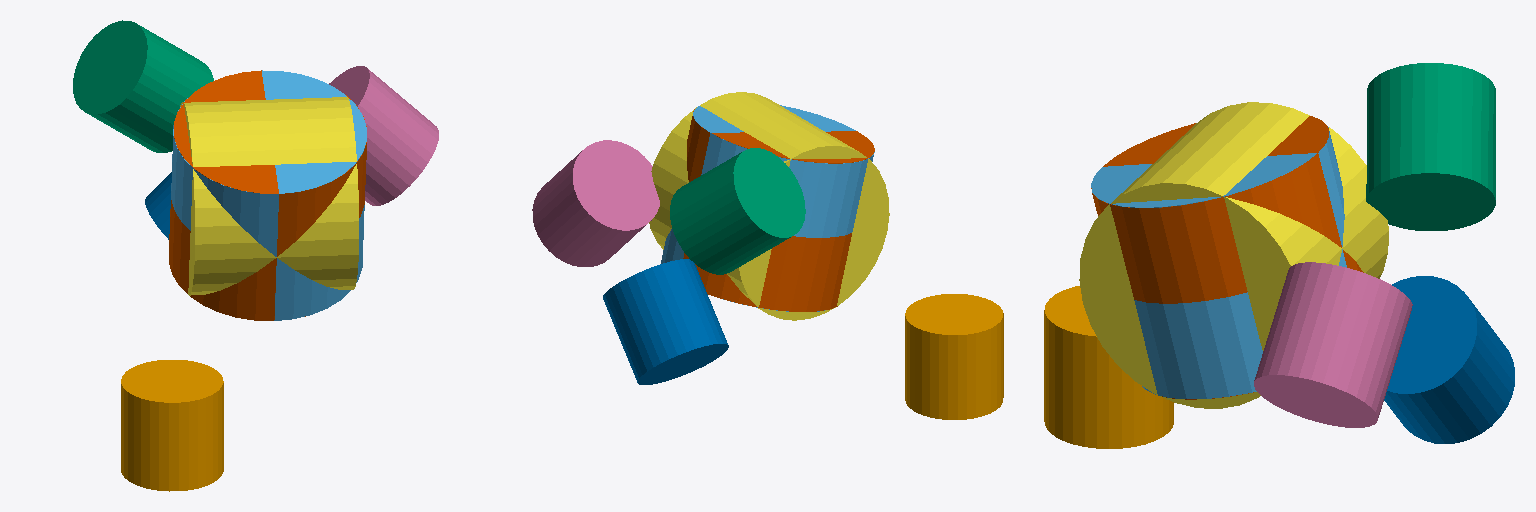
URDF robot description (pepe):
<?xml version="1.0"?><robot name="pepe">
	<link name="0">
		<visual>
			<geometry>
				<cylinder length="0.5611418562821697" radius="0.2946126100920926"/>
			</geometry>
		</visual>
		<collision>
			<geometry>
				<cylinder length="0.5611418562821697" radius="0.2946126100920926"/>
			</geometry>
		</collision>
		<inertial>
			<mass value="0.15301189739869822"/>
			<inertia ixx="0.03" iyy="0.03" izz="0.03" ixy="0" ixz="0" iyx="0"/>
		</inertial>
	</link>
	<link name="11">
		<visual>
			<geometry>
				<cylinder length="0.9455728035005156" radius="0.5578301136942871"/>
			</geometry>
		</visual>
		<collision>
			<geometry>
				<cylinder length="0.9455728035005156" radius="0.5578301136942871"/>
			</geometry>
		</collision>
		<inertial>
			<mass value="0.9243762017948284"/>
			<inertia ixx="0.03" iyy="0.03" izz="0.03" ixy="0" ixz="0" iyx="0"/>
		</inertial>
	</link>
	<link name="22">
		<visual>
			<geometry>
				<cylinder length="0.5611418562821697" radius="0.2946126100920926"/>
			</geometry>
		</visual>
		<collision>
			<geometry>
				<cylinder length="0.5611418562821697" radius="0.2946126100920926"/>
			</geometry>
		</collision>
		<inertial>
			<mass value="0.15301189739869822"/>
			<inertia ixx="0.03" iyy="0.03" izz="0.03" ixy="0" ixz="0" iyx="0"/>
		</inertial>
	</link>
	<link name="13">
		<visual>
			<geometry>
				<cylinder length="0.9455728035005156" radius="0.5578301136942871"/>
			</geometry>
		</visual>
		<collision>
			<geometry>
				<cylinder length="0.9455728035005156" radius="0.5578301136942871"/>
			</geometry>
		</collision>
		<inertial>
			<mass value="0.9243762017948284"/>
			<inertia ixx="0.03" iyy="0.03" izz="0.03" ixy="0" ixz="0" iyx="0"/>
		</inertial>
	</link>
	<link name="24">
		<visual>
			<geometry>
				<cylinder length="0.5611418562821697" radius="0.2946126100920926"/>
			</geometry>
		</visual>
		<collision>
			<geometry>
				<cylinder length="0.5611418562821697" radius="0.2946126100920926"/>
			</geometry>
		</collision>
		<inertial>
			<mass value="0.15301189739869822"/>
			<inertia ixx="0.03" iyy="0.03" izz="0.03" ixy="0" ixz="0" iyx="0"/>
		</inertial>
	</link>
	<link name="15">
		<visual>
			<geometry>
				<cylinder length="0.9455728035005156" radius="0.5578301136942871"/>
			</geometry>
		</visual>
		<collision>
			<geometry>
				<cylinder length="0.9455728035005156" radius="0.5578301136942871"/>
			</geometry>
		</collision>
		<inertial>
			<mass value="0.9243762017948284"/>
			<inertia ixx="0.03" iyy="0.03" izz="0.03" ixy="0" ixz="0" iyx="0"/>
		</inertial>
	</link>
	<link name="26">
		<visual>
			<geometry>
				<cylinder length="0.5611418562821697" radius="0.2946126100920926"/>
			</geometry>
		</visual>
		<collision>
			<geometry>
				<cylinder length="0.5611418562821697" radius="0.2946126100920926"/>
			</geometry>
		</collision>
		<inertial>
			<mass value="0.15301189739869822"/>
			<inertia ixx="0.03" iyy="0.03" izz="0.03" ixy="0" ixz="0" iyx="0"/>
		</inertial>
	</link>
	<joint name="11_to_0" type="revolute">
		<parent link="0"/>
		<child link="11"/>
		<axis xyz="0 1 0"/>
		<limit effort="1" upper="-3.1415" lower="3.1415" velocity="1"/>
		<origin rpy="9.428273766972108 3.395890177047468 4.2820055198187585" xyz="0.9611317272973037 0.5671458963852507 0.9999"/>
	</joint>
	<joint name="22_to_11" type="revolute">
		<parent link="11"/>
		<child link="22"/>
		<axis xyz="0 0 1"/>
		<limit effort="1" upper="-3.1415" lower="3.1415" velocity="1"/>
		<origin rpy="9.243833898421352 0.8111635657596122 1.5394527874181536" xyz="0.7632526944114953 0.6534418227774019 0.21264521352094462"/>
	</joint>
	<joint name="13_to_0" type="revolute">
		<parent link="0"/>
		<child link="13"/>
		<axis xyz="0 1 0"/>
		<limit effort="1" upper="-3.1415" lower="3.1415" velocity="1"/>
		<origin rpy="14.142410650458162 3.395890177047468 4.2820055198187585" xyz="0.9611317272973037 0.5671458963852507 0.9999"/>
	</joint>
	<joint name="24_to_13" type="revolute">
		<parent link="13"/>
		<child link="24"/>
		<axis xyz="0 0 1"/>
		<limit effort="1" upper="-3.1415" lower="3.1415" velocity="1"/>
		<origin rpy="9.243833898421352 0.8111635657596122 1.5394527874181536" xyz="0.7632526944114953 0.6534418227774019 0.21264521352094462"/>
	</joint>
	<joint name="15_to_0" type="revolute">
		<parent link="0"/>
		<child link="15"/>
		<axis xyz="0 1 0"/>
		<limit effort="1" upper="-3.1415" lower="3.1415" velocity="1"/>
		<origin rpy="18.856547533944216 3.395890177047468 4.2820055198187585" xyz="0.9611317272973037 0.5671458963852507 0.9999"/>
	</joint>
	<joint name="26_to_15" type="revolute">
		<parent link="15"/>
		<child link="26"/>
		<axis xyz="0 0 1"/>
		<limit effort="1" upper="-3.1415" lower="3.1415" velocity="1"/>
		<origin rpy="9.243833898421352 0.8111635657596122 1.5394527874181536" xyz="0.7632526944114953 0.6534418227774019 0.21264521352094462"/>
	</joint>
</robot>

--- Render facts (derived) ---
Views: 3 orthographic renders of the robot side by side, from view 1: azimuth 30°, elevation 25°; view 2: azimuth 150°, elevation 25°; view 3: azimuth 270°, elevation 25°.
Model pepe with 7 links and 6 joints (6 revolute), rooted at 0, posed every joint at zero.
Links seen in each view (by area): view 1: 13, 0, 22, 15, 11, 26, 24; view 2: 13, 22, 0, 26, 24, 15, 11; view 3: 13, 22, 26, 15, 24, 11, 0.
Link boxes in pixels (bbox=[...]): 13: bbox=[180, 97, 358, 295]; 0: bbox=[121, 360, 223, 491]; 22: bbox=[73, 20, 213, 152]; 15: bbox=[169, 70, 366, 320]; 11: bbox=[171, 70, 366, 320]; 26: bbox=[329, 66, 438, 205]; 24: bbox=[145, 172, 171, 239]; 13: bbox=[649, 92, 889, 320]; 22: bbox=[670, 148, 805, 274]; 0: bbox=[905, 294, 1003, 419]; 26: bbox=[532, 140, 659, 266]; 24: bbox=[603, 259, 728, 384]; 15: bbox=[683, 109, 874, 311]; 11: bbox=[661, 105, 874, 311]; 13: bbox=[1079, 102, 1388, 408]; 22: bbox=[1366, 63, 1495, 230]; 26: bbox=[1254, 262, 1412, 427]; 15: bbox=[1091, 116, 1363, 399]; 24: bbox=[1384, 276, 1514, 443]; 11: bbox=[1091, 127, 1346, 398]; 0: bbox=[1044, 286, 1173, 448].
Bounding box of the posed robot: 2.59 × 2.14 × 2.08 m (x, y, z).
Geometry: primitives only (box / cylinder / sphere), no mesh files.
